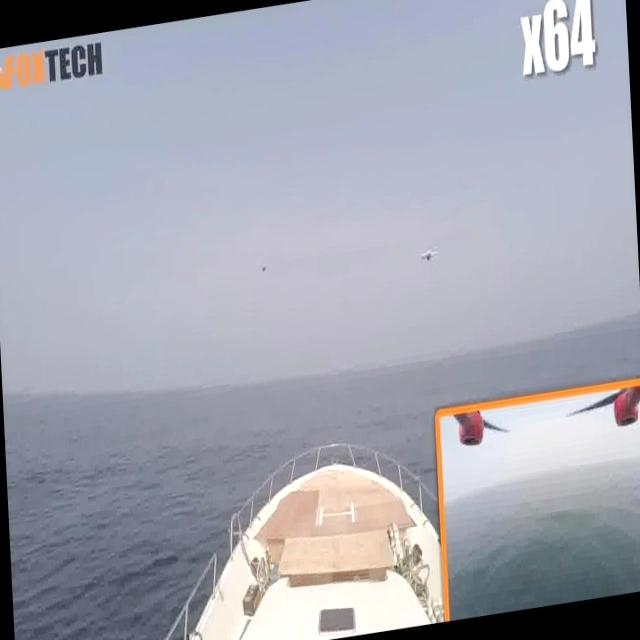drone: (416, 237, 439, 270)
